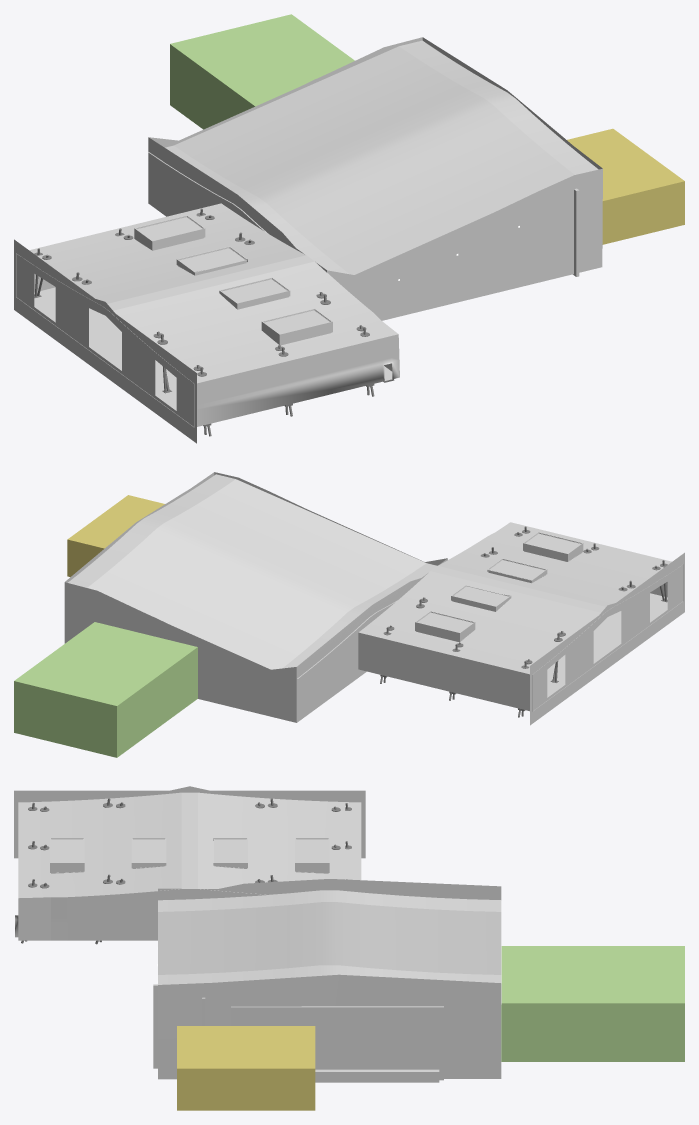
The model's file is conferencemain_AllDemo.fbx.
The picture shows the model from 3 angles, top to bottom: view 1: azimuth 30°, elevation 25°; view 2: azimuth 150°, elevation 25°; view 3: azimuth 270°, elevation 25°; orthographic projection. The views are drawn at different scales.
Parts seen in each view (by area): view 1: hangar.001, hangar, auditorium walls and floor.001, spawn lobby, conference outter skyline wall, green room, columns4.001; view 2: hangar.001, hangar, spawn lobby, auditorium walls and floor.001, conference outter skyline wall, green room, columns4.001; view 3: hangar, hangar.001, spawn lobby, auditorium walls and floor.001, green room, auditorium back wall, conference outter skyline wall, stage floor, columns4.001.
Part boxes in pixels (<box>): hangar.001: <box>148,40,598,274</box>; hangar: <box>16,203,399,427</box>; auditorium walls and floor.001: <box>148,37,602,320</box>; spawn lobby: <box>170,14,354,129</box>; conference outter skyline wall: <box>14,239,196,443</box>; green room: <box>567,128,684,244</box>; columns4.001: <box>34,208,374,436</box>; hangar.001: <box>68,474,437,678</box>; hangar: <box>358,522,683,711</box>; spawn lobby: <box>14,622,197,757</box>; auditorium walls and floor.001: <box>64,472,447,722</box>; conference outter skyline wall: <box>530,552,684,725</box>; green room: <box>67,495,164,576</box>; columns4.001: <box>380,526,667,717</box>; hangar: <box>15,792,361,940</box>; hangar.001: <box>158,890,501,984</box>; spawn lobby: <box>501,946,684,1061</box>; auditorium walls and floor.001: <box>158,879,501,1079</box>; green room: <box>177,1026,315,1110</box>; auditorium back wall: <box>231,1006,443,1080</box>; conference outter skyline wall: <box>14,786,365,858</box>; stage floor: <box>315,1069,439,1082</box>; columns4.001: <box>21,798,351,944</box>.
Size of the model in its own units: 42684 by 8261 by 45008.
